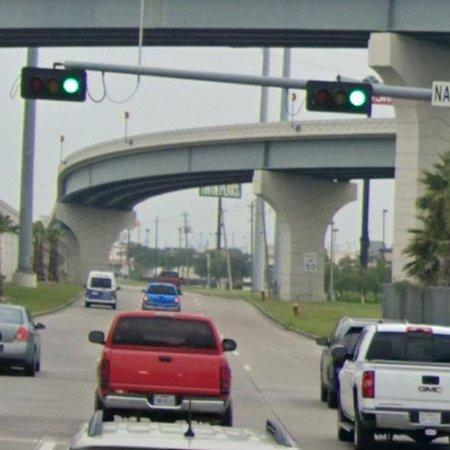cars: (89, 313, 237, 426), (339, 324, 450, 450), (317, 317, 380, 409), (0, 305, 45, 377)
